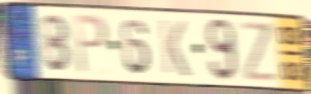6: (120, 17, 152, 76)
8: (40, 13, 71, 73)
9: (206, 17, 239, 83)
K: (158, 17, 192, 79)
P: (71, 13, 110, 77)
Z: (238, 20, 280, 85)
